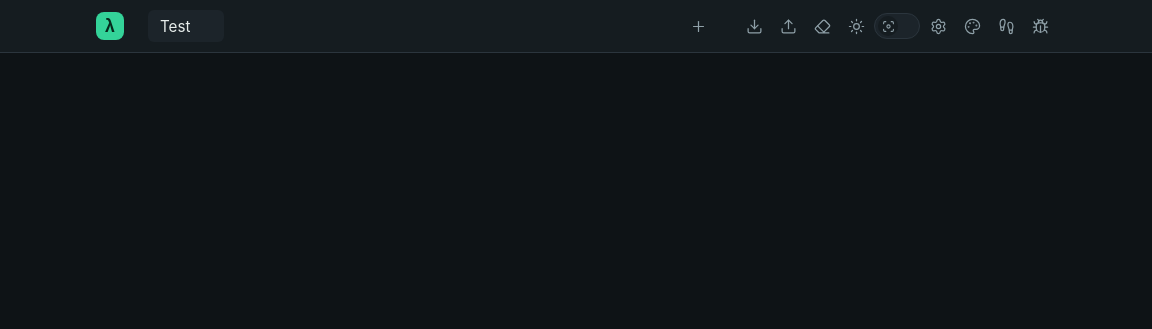
Scenario: tour icon opens the tour and parks any open panel
Step 1. Click the button titled "Accent theme" → click(972, 26), box [956,10,988,42]
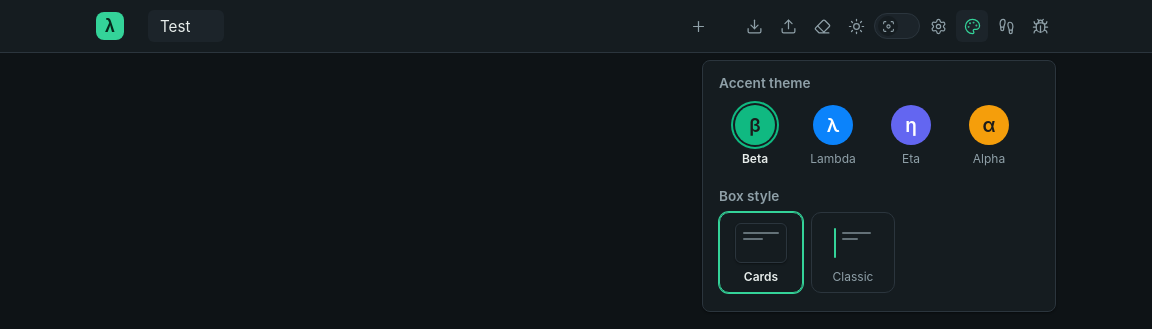
Check: the element with class "top-bar--accent-pick" is shown, box [719,99,1039,172]
Step 2. Click the button titled "Guided tour" → click(1006, 26), box [990,10,1022,42]
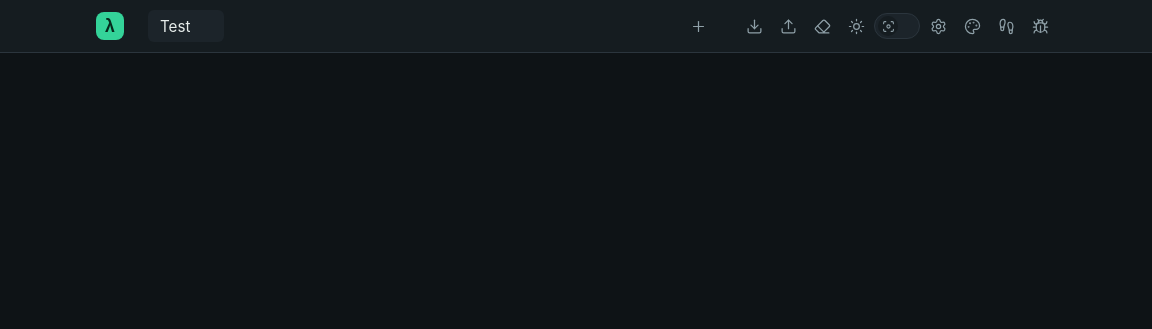
Check: the element with class "top-bar--accent-pick" is gone
